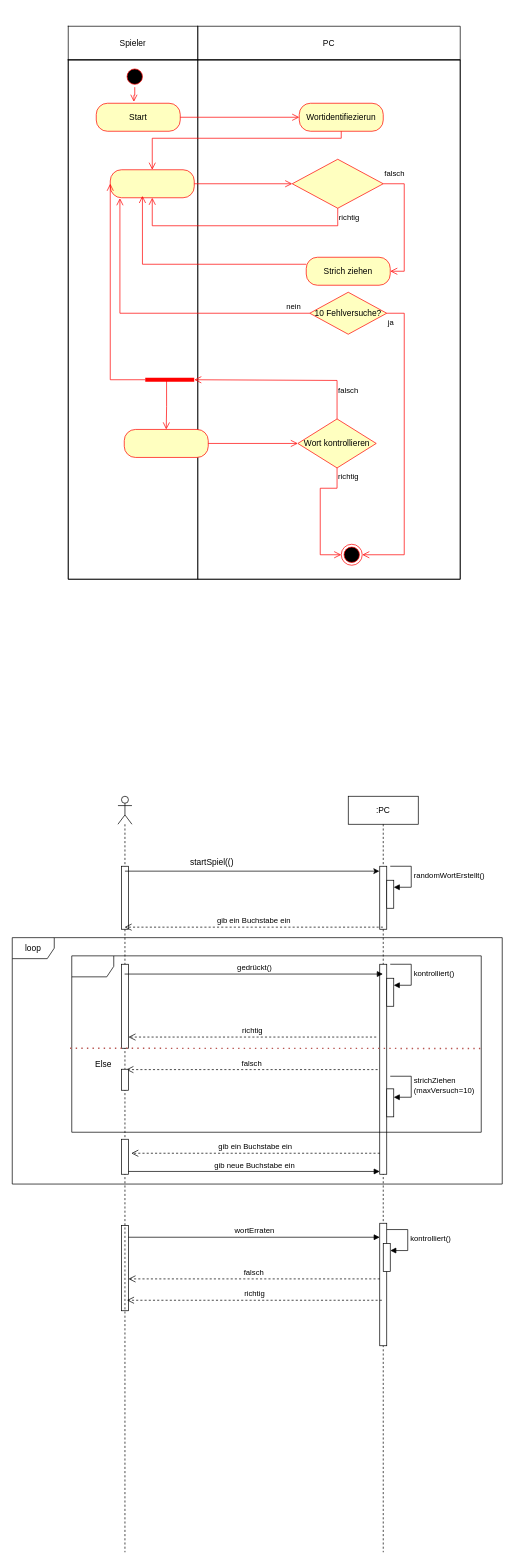
Image size: 515x1565. Some labels were removed from this diagram. The box of each missing label's shape, as (x1, y1, x2, y2) in pixels:
alt: (71, 955, 481, 1132)
Buchstabe eingeben: (110, 169, 194, 198)
Buchstabe kontrollieren: (292, 159, 383, 208)
Wort erraten: (124, 429, 208, 457)
